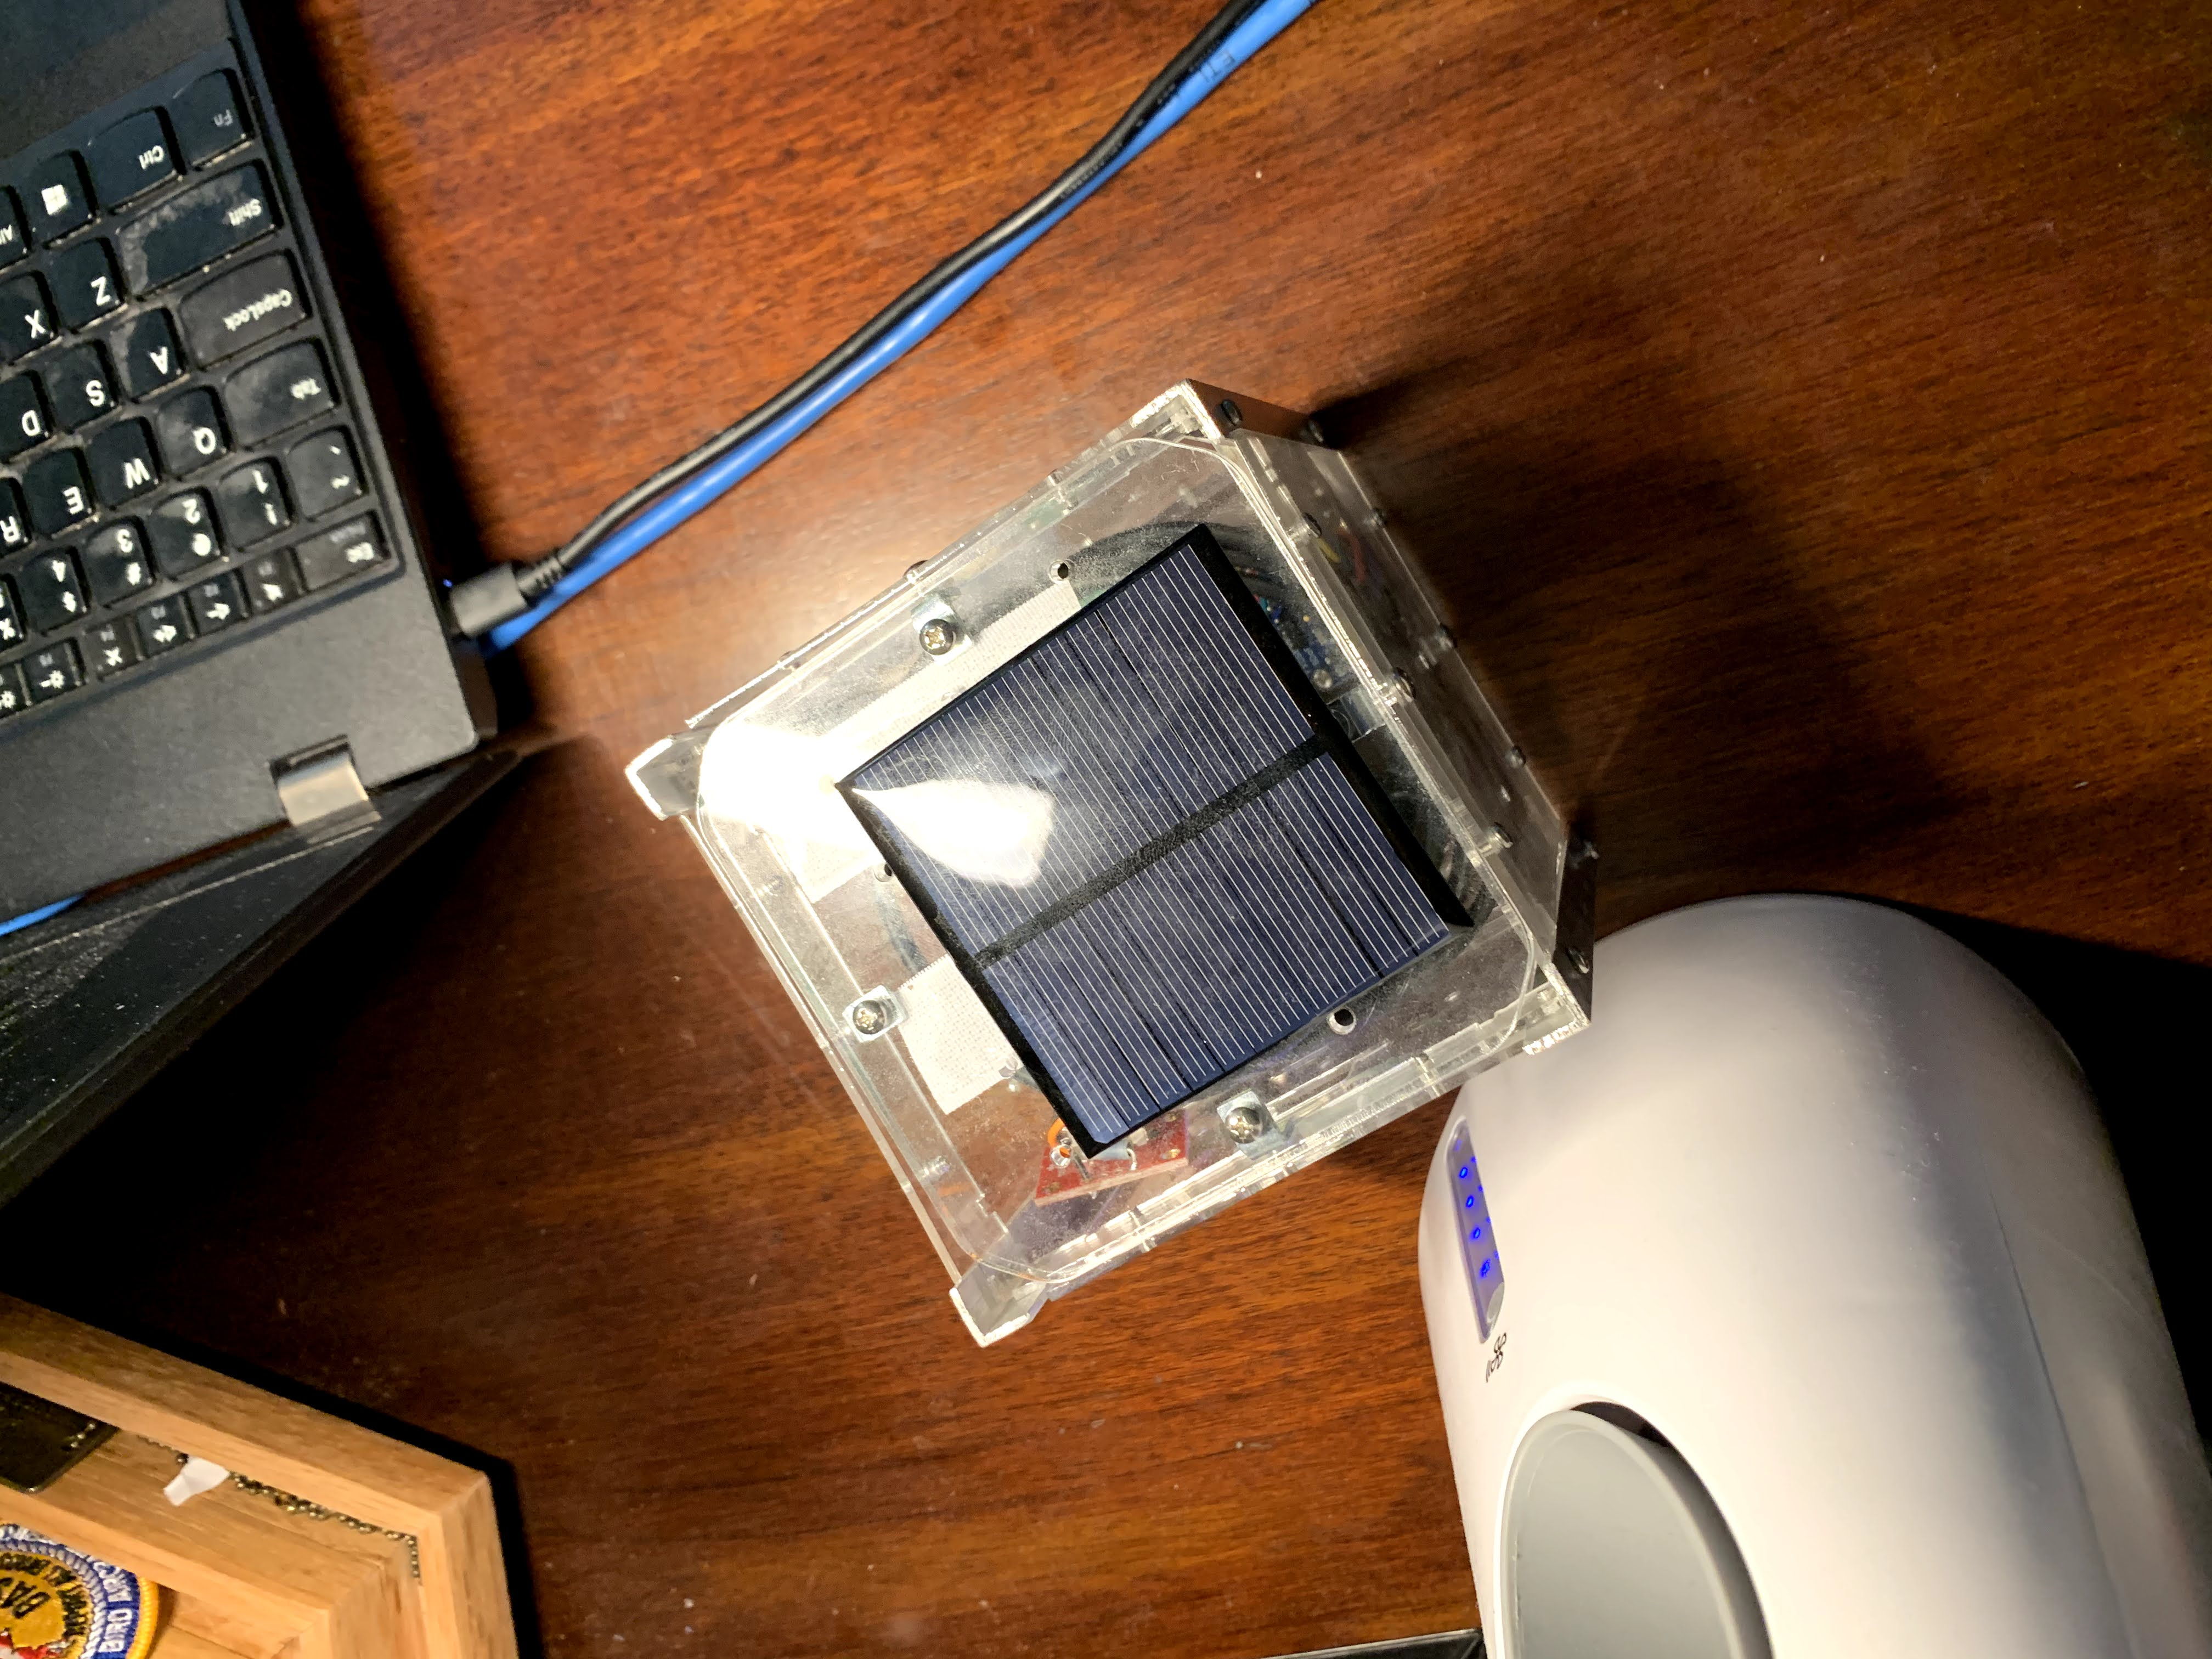Space-debris-cubesat: (624, 366, 1611, 1387)
